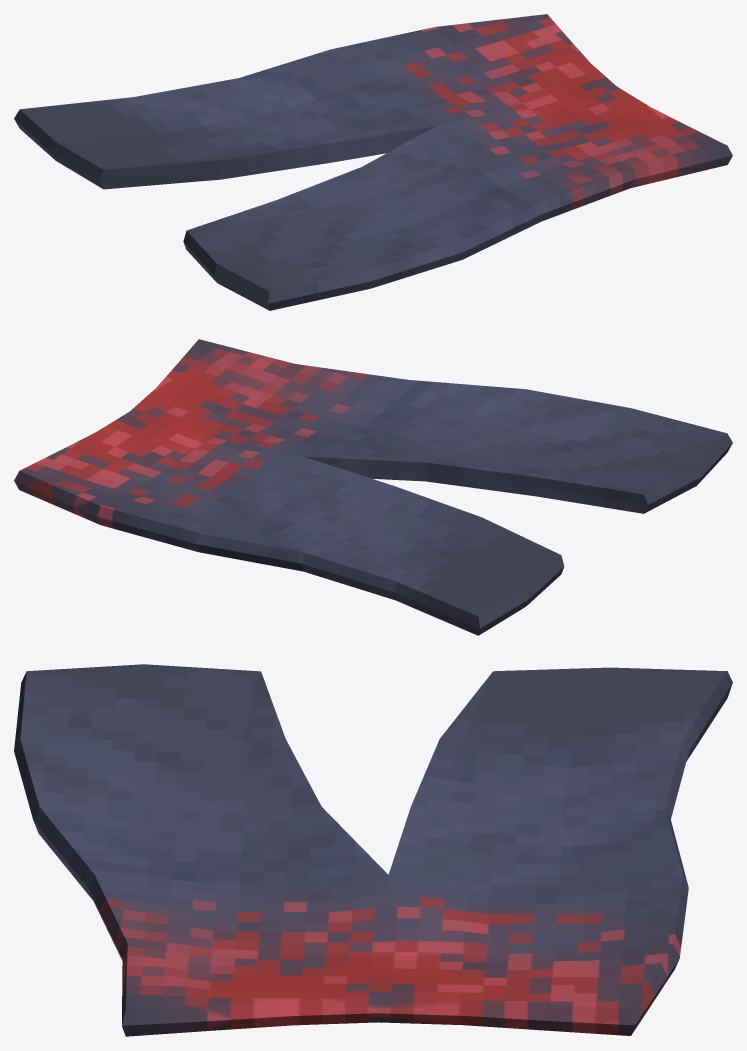
The model's file is Pantalon.fbx.
The picture shows the model from 3 angles, top to bottom: view 1: azimuth 30°, elevation 25°; view 2: azimuth 150°, elevation 25°; view 3: azimuth 270°, elevation 25°; orthographic projection. The views are drawn at different scales.
Visible parts, largest first — view 1: Pantalon; view 2: Pantalon; view 3: Pantalon.
Part boxes in pixels (x1,y1,x2,y2): Pantalon: [14, 14, 732, 310]; Pantalon: [14, 339, 732, 635]; Pantalon: [14, 664, 732, 1036].
Bounding box in the file's own units: 236 × 8.68 × 204.
1 material, 1 textured.
